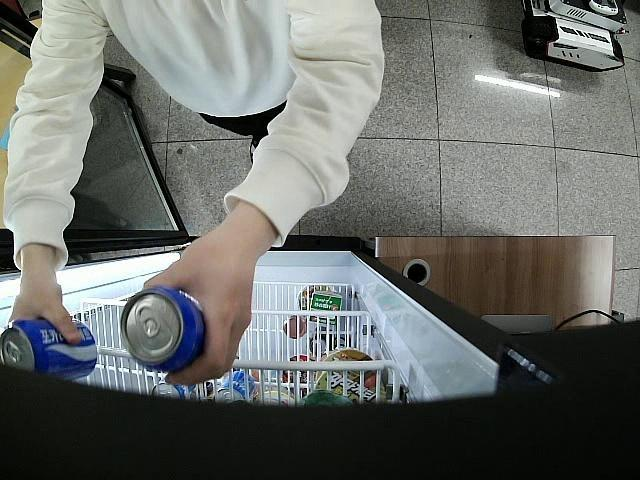13_pocariSweat: (119, 286, 208, 373), (0, 316, 99, 382)
